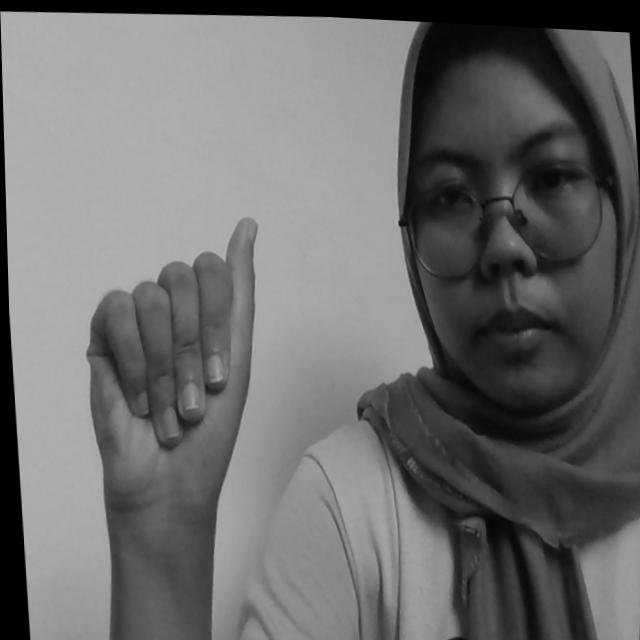A: (78, 204, 273, 506)
